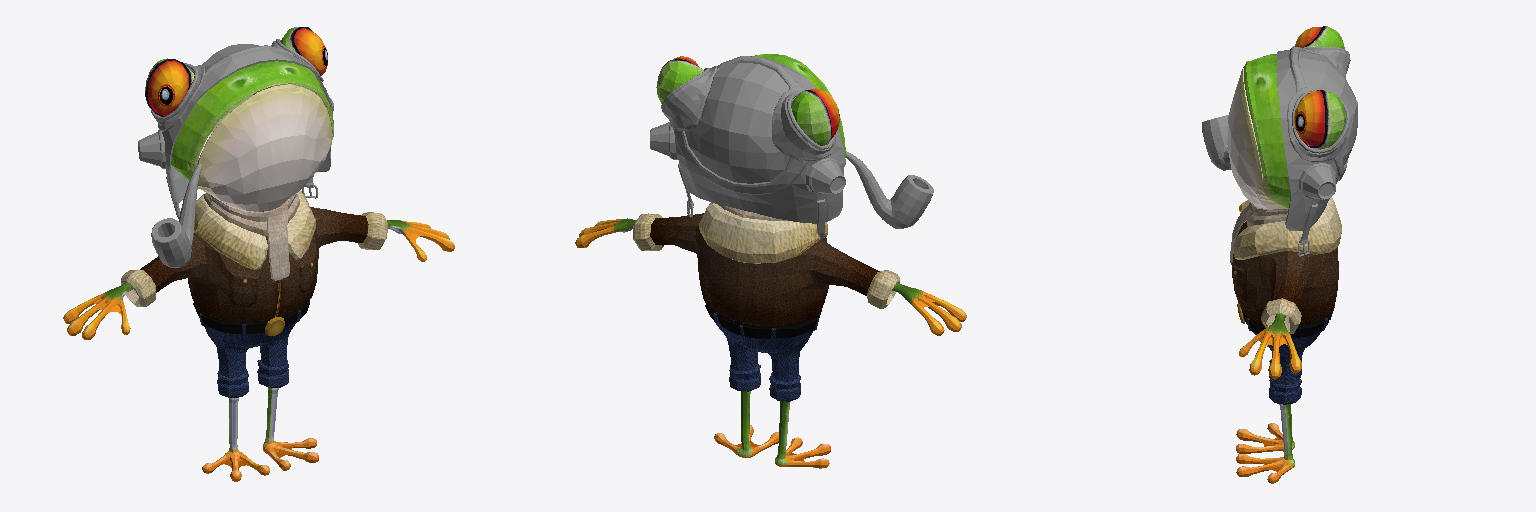
3 renders of one model, left to right at view 1: azimuth 30°, elevation 25°; view 2: azimuth 150°, elevation 25°; view 3: azimuth 270°, elevation 25°, orthographic.
Parts seen in each view (by area): view 1: (null); view 2: (null); view 3: (null).
Boxes of the visible parts, x1=… form: (null): x1=63, y1=27, x2=454, y2=481; (null): x1=575, y1=54, x2=966, y2=468; (null): x1=1202, y1=26, x2=1357, y2=483.
Size of the model in its own units: 82.74 by 84.13 by 29.41.
3 materials, 2 textured.